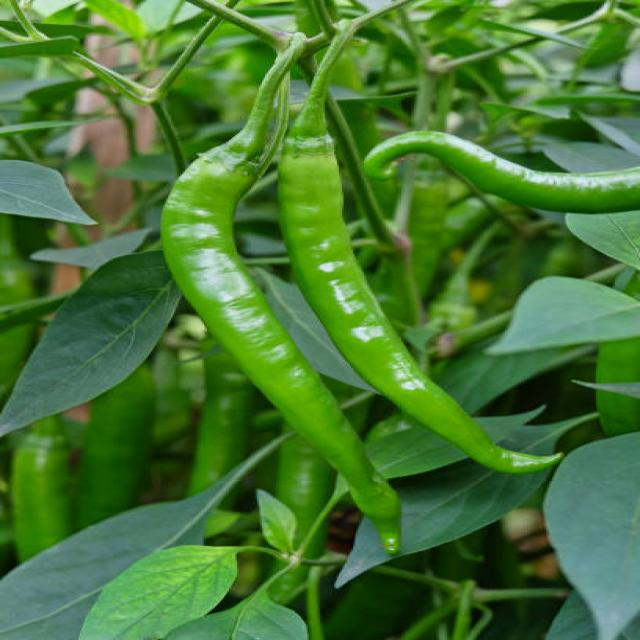Unripe: (278, 144, 571, 477), (162, 151, 402, 556), (365, 131, 640, 215)
